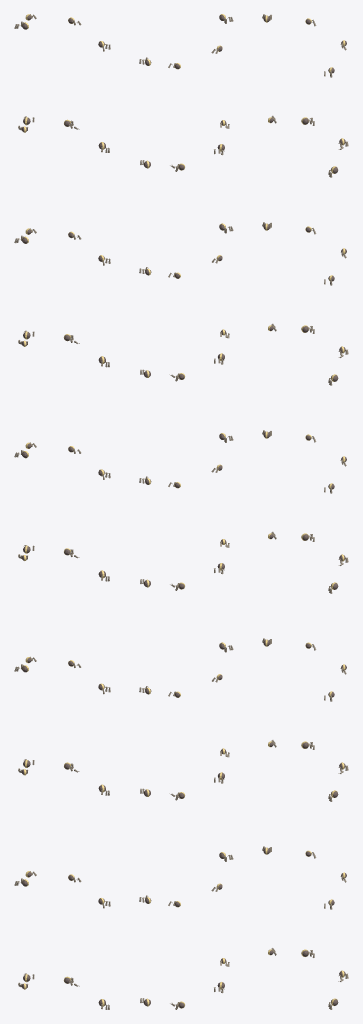
Rendered from Circle4Crowd3.obj.
3 views of the same model, side by side, from view 1: azimuth 30°, elevation 25°; view 2: azimuth 210°, elevation 25°; view 3: azimuth 330°, elevation 25° (orthographic). The views are drawn at different scales.
Parts seen in each view (by area): view 1: Circle4Crowd3; view 2: Circle4Crowd3; view 3: Circle4Crowd3.
Part boxes in pixels (x1,y1,x2,y2): Circle4Crowd3: (14,14,110,1009); Circle4Crowd3: (139,14,233,1009); Circle4Crowd3: (262,14,348,1009).
Bounding box in the file's own units: 28.83 × 326 × 19.87.
1 material, 1 textured.
